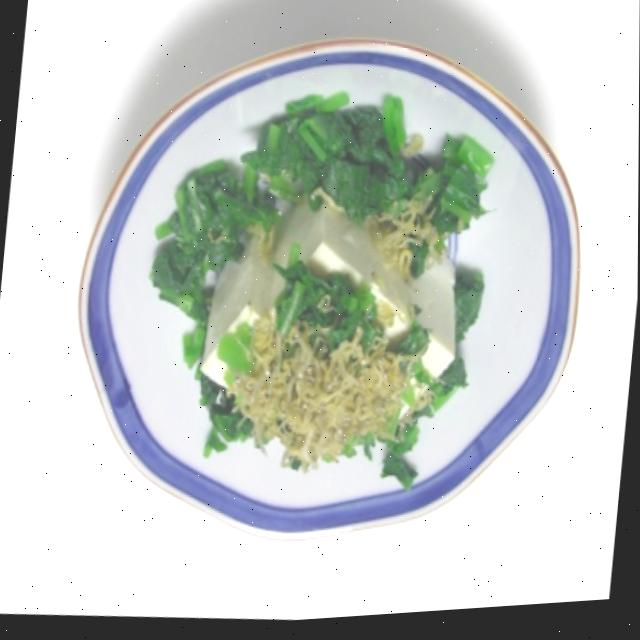豆腐料理: (129, 80, 511, 514)
